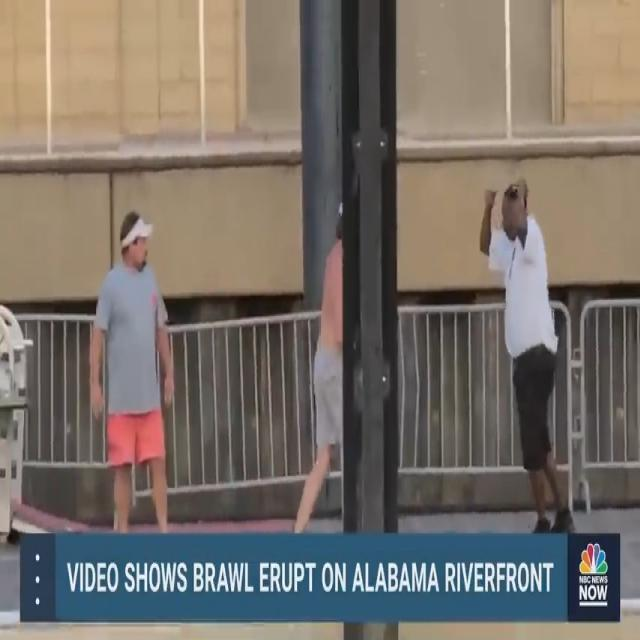non-fight: (292, 178, 589, 529), (71, 194, 203, 534)
